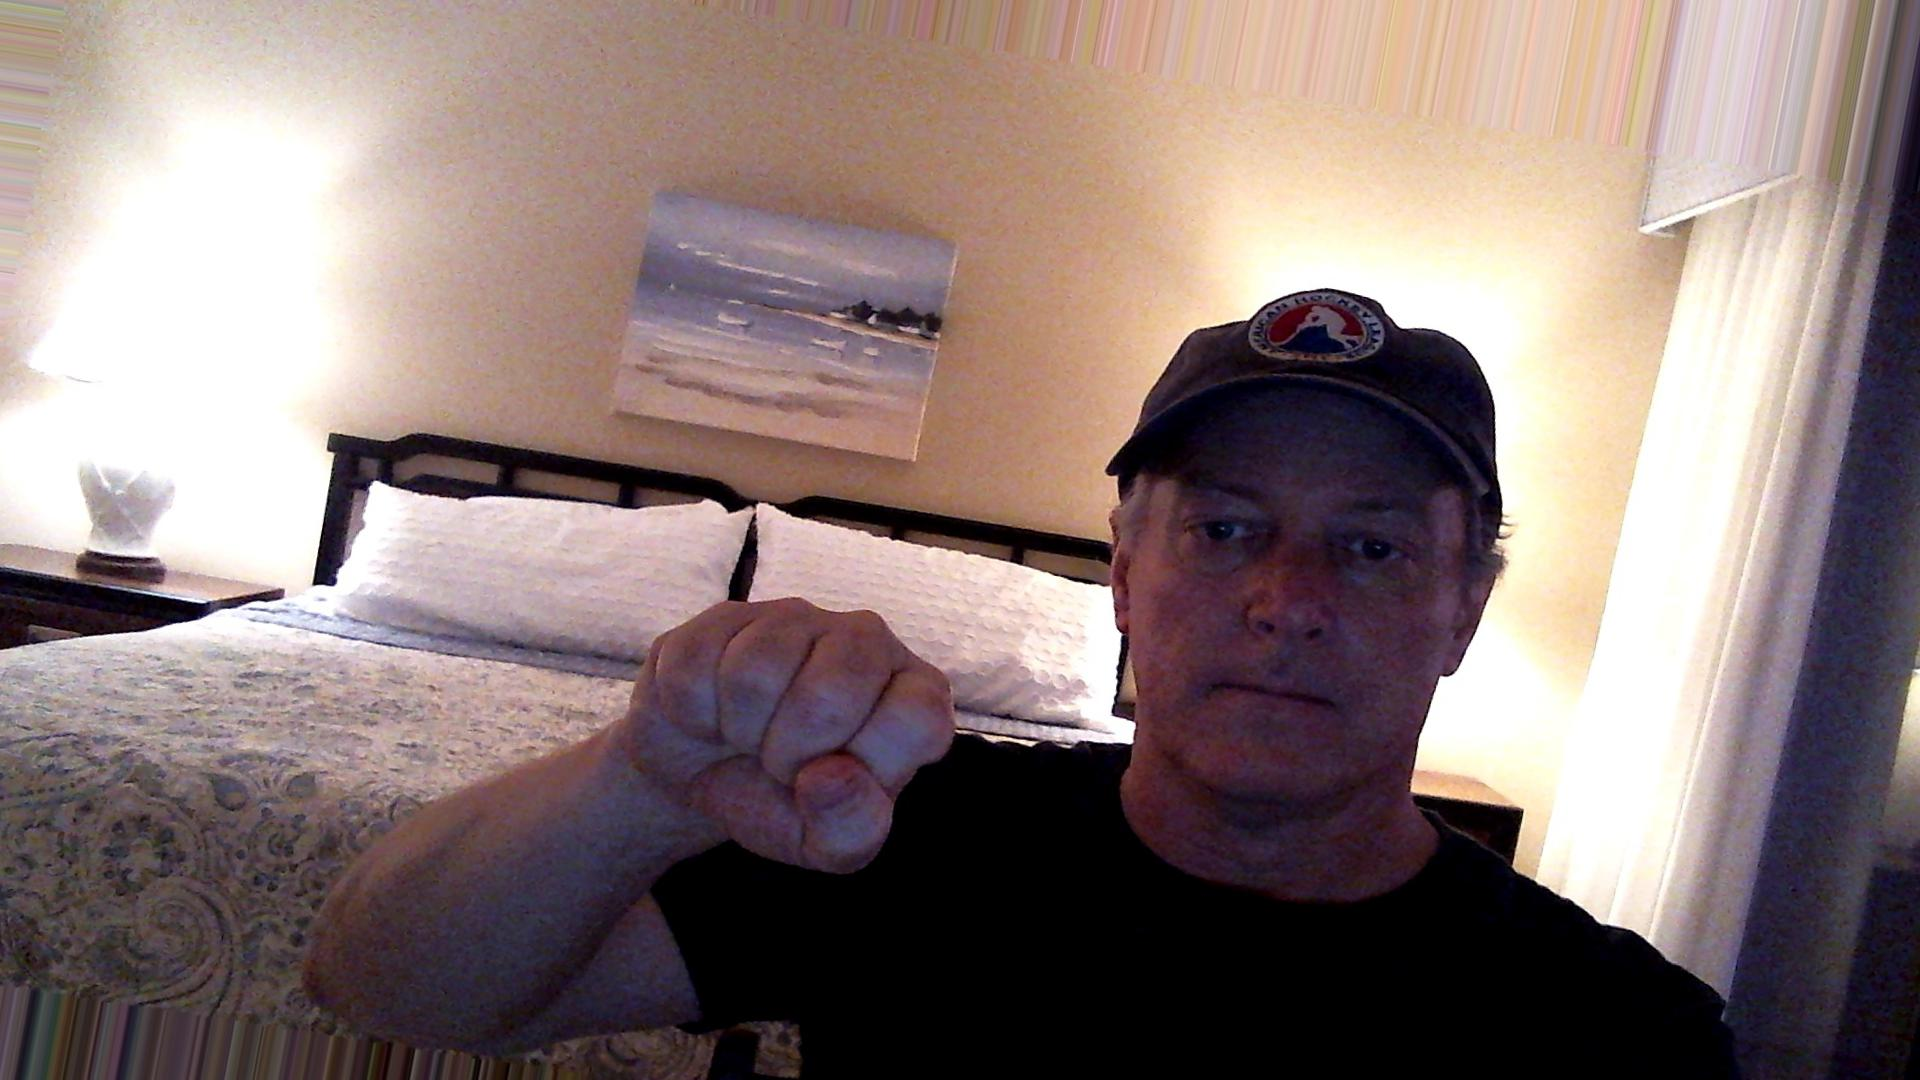Yes: (547, 531, 981, 905)
